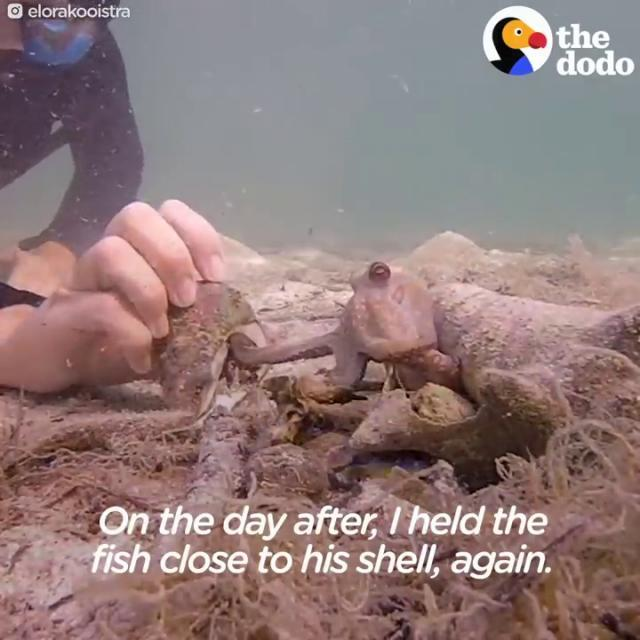octopus: (125, 238, 452, 544)
